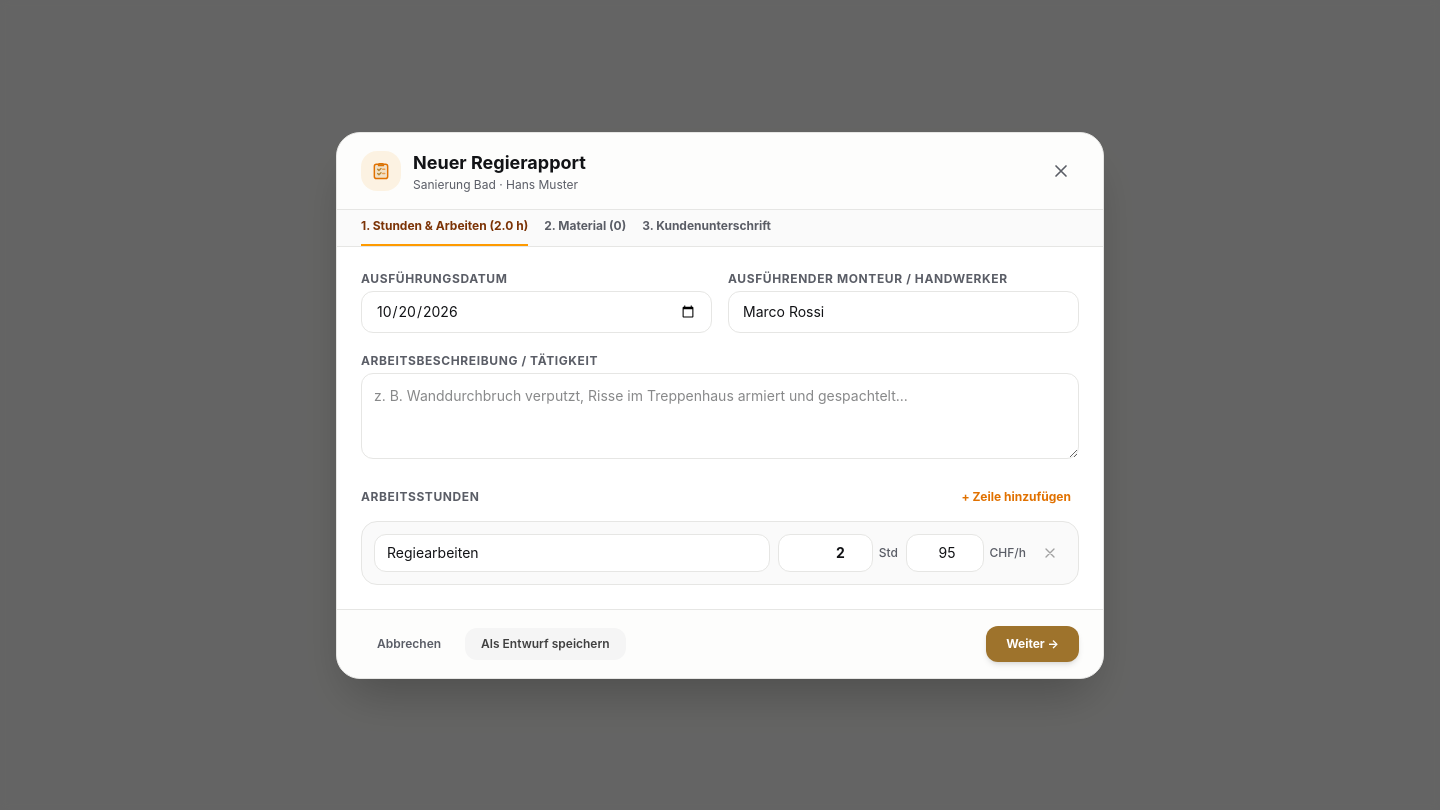
RapportCreateModal › allows adding hours and navigating to step 2 (Material)
This screenshot has width=1440, height=810.
# Add description
Replace the text in the text box with placeholder "Wanddurchbruch" with "Leitungen verlegt und angeschlossen": point(720, 416) [361, 372, 1079, 458]
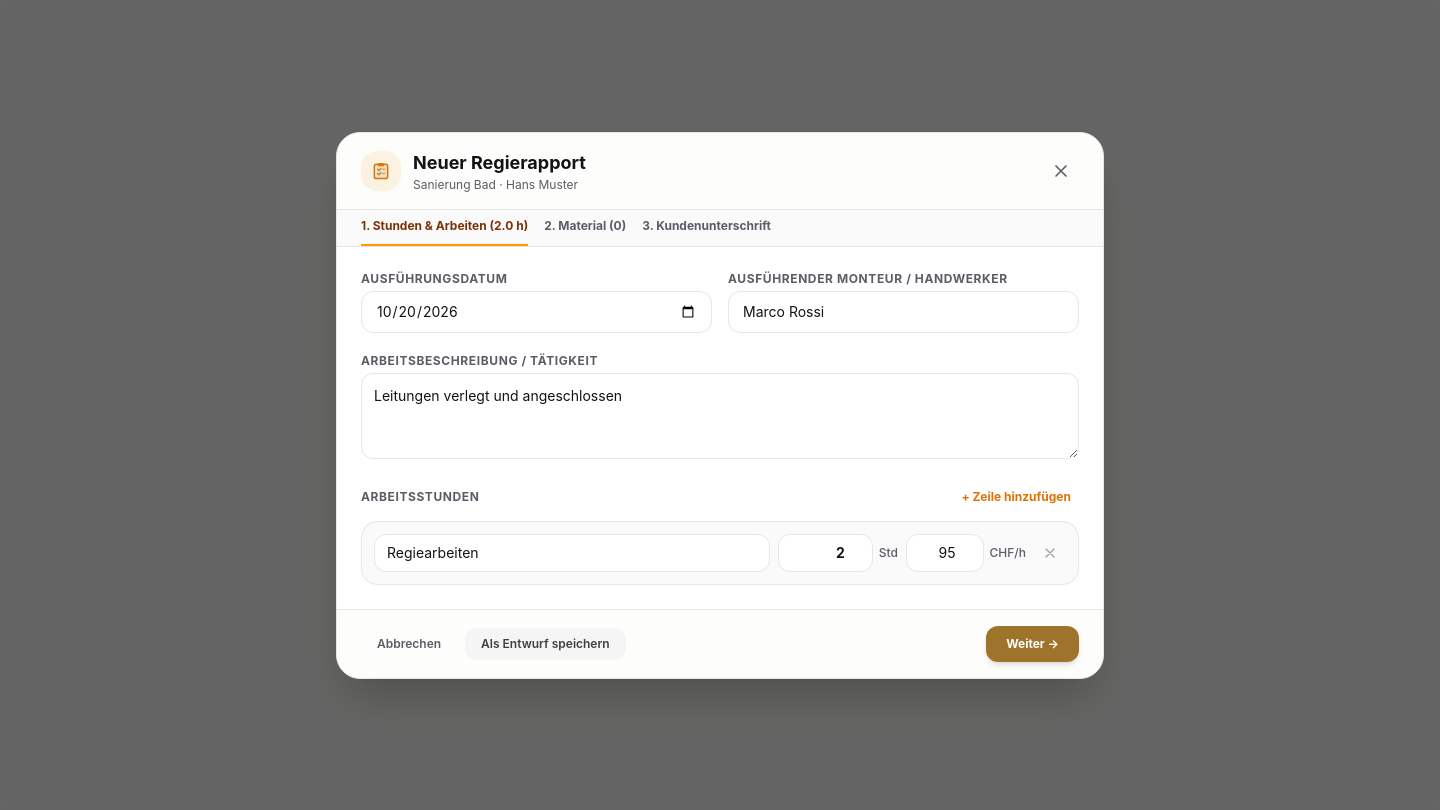
# Click "Weiter →" button to go to Material
Click the button "Weiter →": point(1033, 644) [986, 626, 1079, 662]
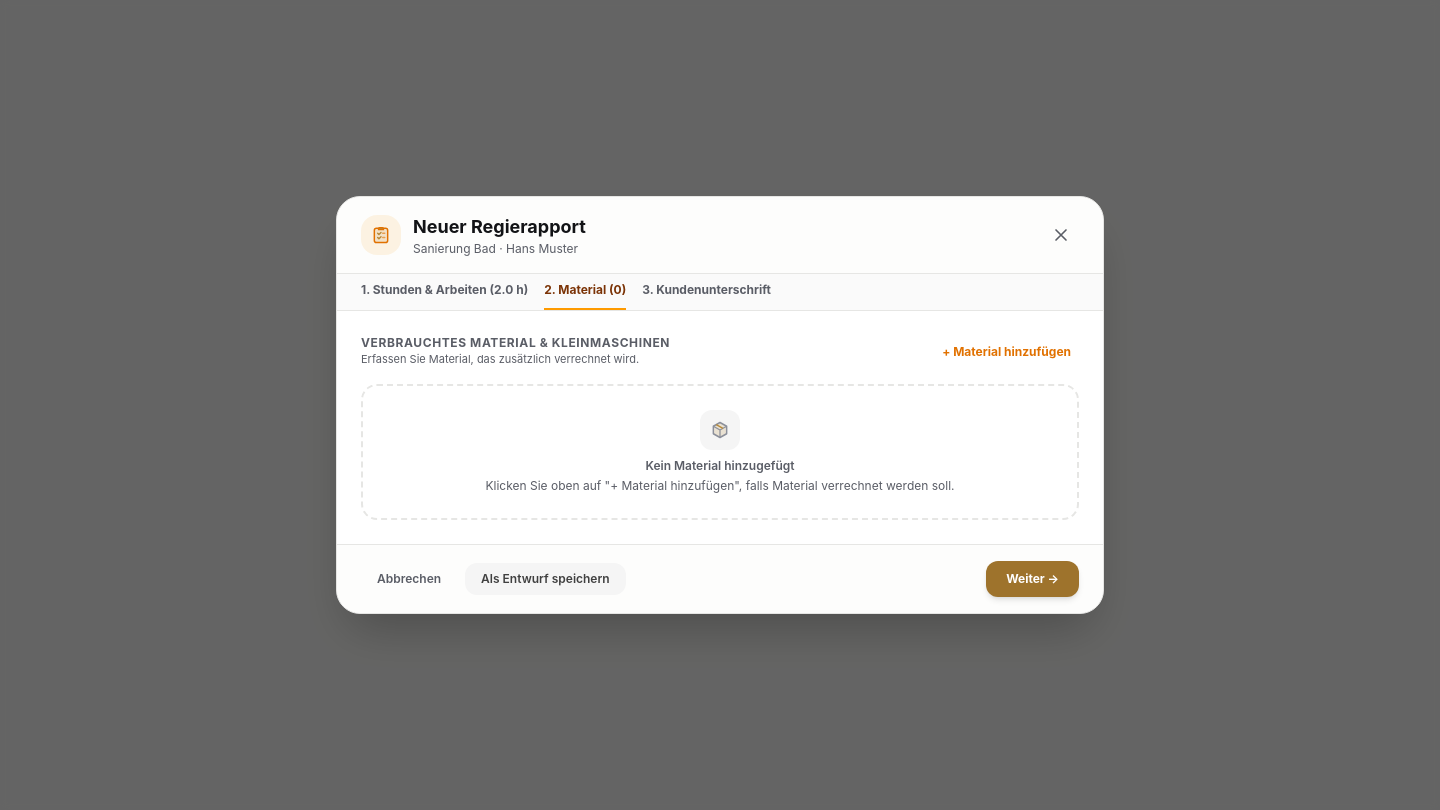
Expected: the button "2. Material (0)" is shown, [544, 282, 626, 310]
Expected: the button "+ Material hinzufügen" is shown, [934, 340, 1079, 364]
